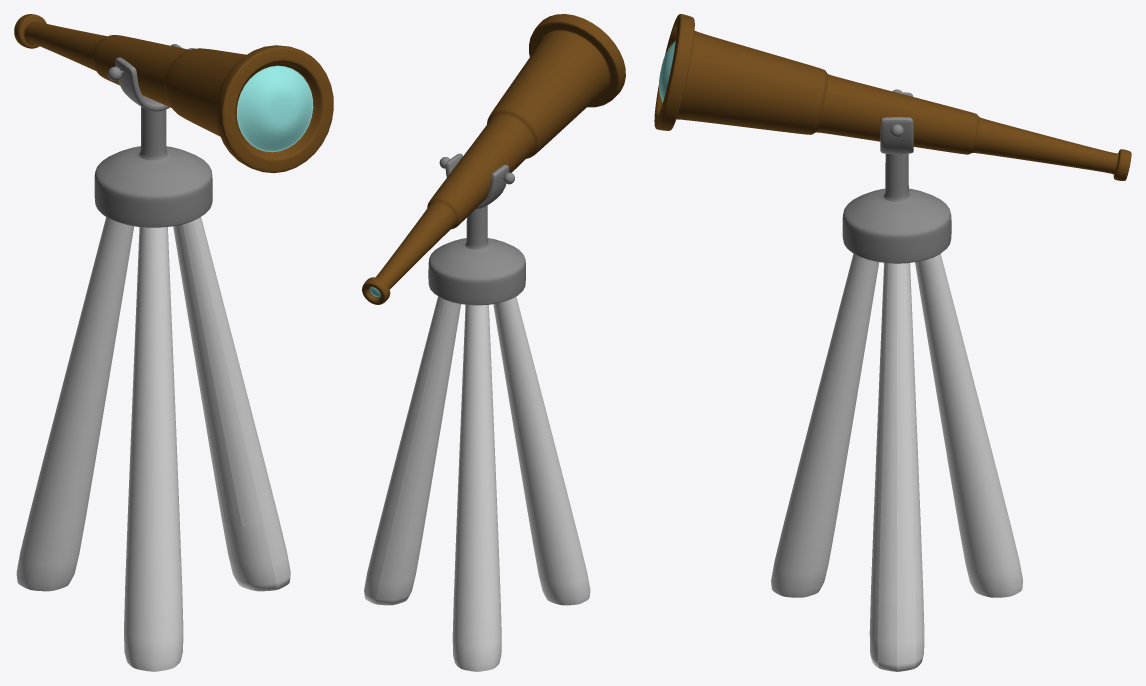
Rendered from Telescope.fbx.
3 views of the same model, side by side, from view 1: azimuth 30°, elevation 25°; view 2: azimuth 150°, elevation 25°; view 3: azimuth 270°, elevation 25° (orthographic). The views are drawn at different scales.
Visible parts, largest first — view 1: Cylinder.002, Cylinder.003, Cylinder.001, Cylinder.004, Cylinder, Cylinder.005, Plane; view 2: Cylinder.004, Cylinder.003, Cylinder.001, Cylinder.002, Cylinder, Plane; view 3: Cylinder.004, Cylinder.001, Cylinder.002, Cylinder.003, Cylinder, Plane.
Part boxes in pixels (box(x1,y1,x2,y2)): Cylinder.002: box(124, 227, 183, 671); Cylinder.003: box(16, 217, 134, 591); Cylinder.001: box(173, 217, 290, 591); Cylinder.004: box(14, 14, 333, 173); Cylinder: box(94, 106, 212, 227); Cylinder.005: box(237, 65, 313, 152); Plane: box(115, 44, 182, 111); Cylinder.004: box(362, 14, 625, 304); Cylinder.003: box(452, 304, 501, 671); Cylinder.001: box(364, 296, 460, 605); Cylinder.002: box(493, 296, 590, 605); Cylinder: box(428, 205, 525, 305); Plane: box(445, 153, 508, 209); Cylinder.004: box(654, 14, 1131, 180); Cylinder.001: box(869, 263, 924, 671); Cylinder.002: box(771, 254, 879, 597); Cylinder.003: box(915, 254, 1023, 597); Cylinder: box(842, 153, 951, 263); Plane: box(880, 92, 913, 154).
Size of the model in its own units: 1584 by 4600 by 3347.
